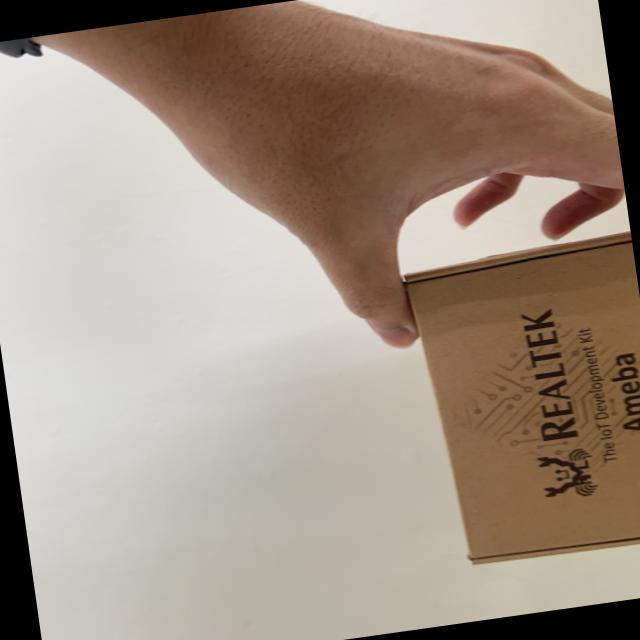box: (384, 233, 640, 595)
